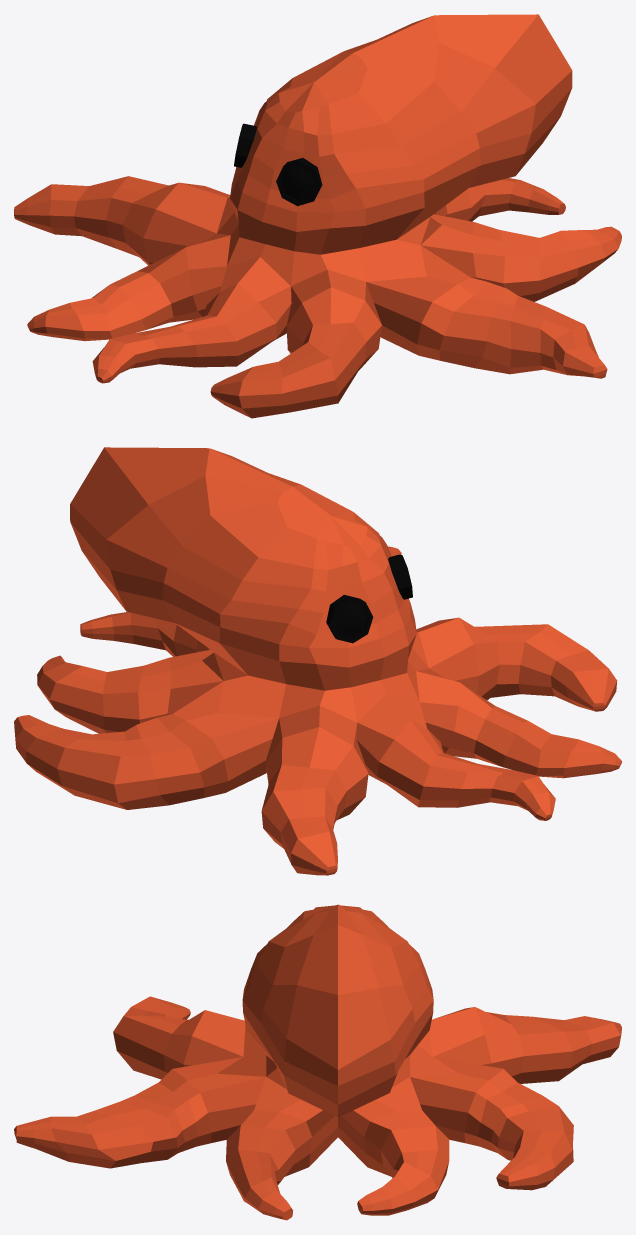
File: karraken.fbx
3 renders of one model, top to bottom at view 1: azimuth 30°, elevation 25°; view 2: azimuth 150°, elevation 25°; view 3: azimuth 270°, elevation 25°, orthographic. The views are drawn at different scales.
Parts seen in each view (by area): view 1: Octopus_Body, Octopus_Eye.001, Octopus_Eye; view 2: Octopus_Body, Octopus_Eye, Octopus_Eye.001; view 3: Octopus_Body.
Boxes of the visible parts, x1,y1,x2,y2 form: Octopus_Body: (14, 14, 621, 418); Octopus_Eye.001: (276, 158, 322, 206); Octopus_Eye: (234, 123, 257, 167); Octopus_Body: (14, 447, 621, 875); Octopus_Eye: (326, 594, 373, 643); Octopus_Eye.001: (388, 554, 412, 599); Octopus_Body: (14, 904, 621, 1220).
Bounding box in the file's own units: 601 × 289 × 642.
